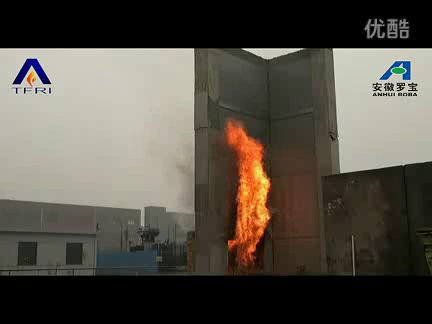fire: (224, 117, 272, 271)
